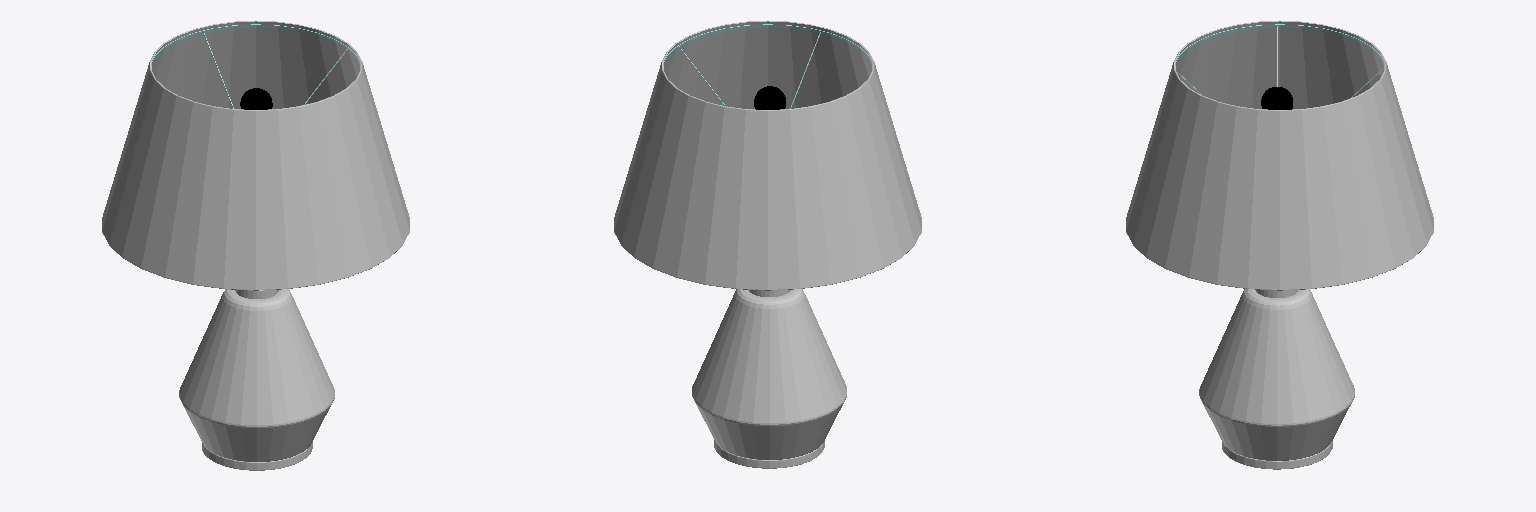
The model's file is lamp.obj.
3 views of the same model, side by side, from view 1: azimuth 30°, elevation 25°; view 2: azimuth 150°, elevation 25°; view 3: azimuth 270°, elevation 25° (orthographic).
Visible parts, largest first — view 1: Cylinder002, Cylinder001, Object003, Object002, Obj_01; view 2: Cylinder002, Cylinder001, Object003, Object002, Obj_01; view 3: Cylinder002, Cylinder001, Object003, Object002, Obj_01.
Boxes of the visible parts, x1=… form: Cylinder002: x1=102, y1=21, x2=409, y2=290; Cylinder001: x1=179, y1=289, x2=334, y2=461; Object003: x1=202, y1=290, x2=312, y2=470; Object002: x1=152, y1=24, x2=359, y2=108; Obj_01: x1=240, y1=88, x2=272, y2=109; Cylinder002: x1=614, y1=21, x2=921, y2=290; Cylinder001: x1=692, y1=289, x2=846, y2=459; Object003: x1=714, y1=290, x2=824, y2=468; Object002: x1=664, y1=24, x2=871, y2=108; Obj_01: x1=754, y1=86, x2=785, y2=109; Cylinder002: x1=1126, y1=21, x2=1433, y2=290; Cylinder001: x1=1199, y1=289, x2=1354, y2=460; Object003: x1=1222, y1=290, x2=1332, y2=469; Object002: x1=1176, y1=24, x2=1383, y2=97; Obj_01: x1=1261, y1=87, x2=1292, y2=109.
Bounding box in the file's own units: 48.97 × 66.54 × 48.7.